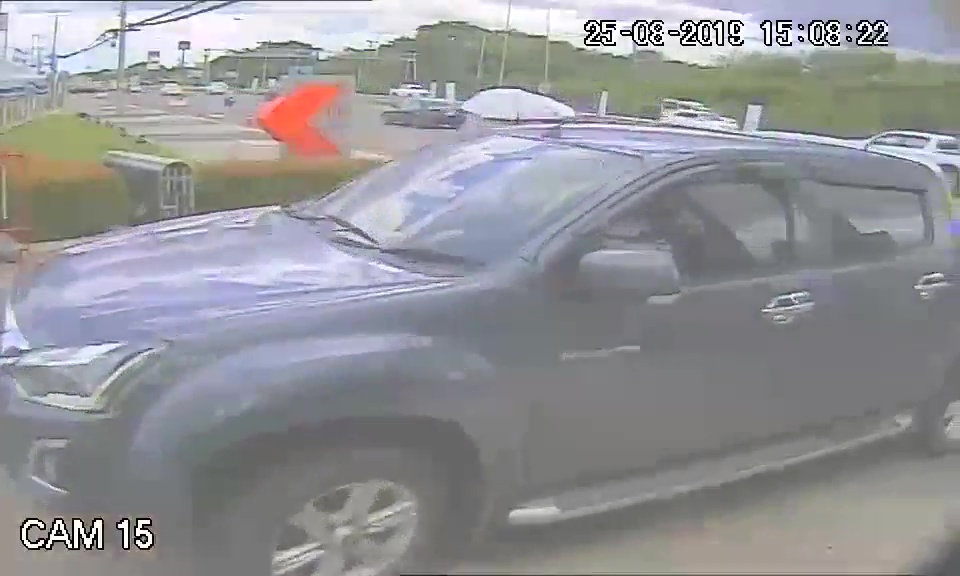pickup: (3, 118, 941, 515)
